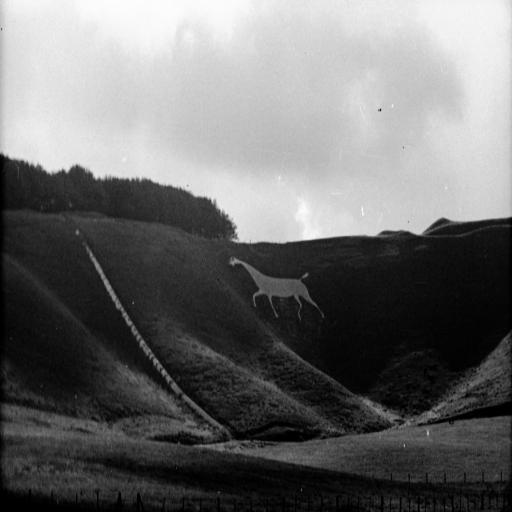horse: (229, 252, 327, 324)
